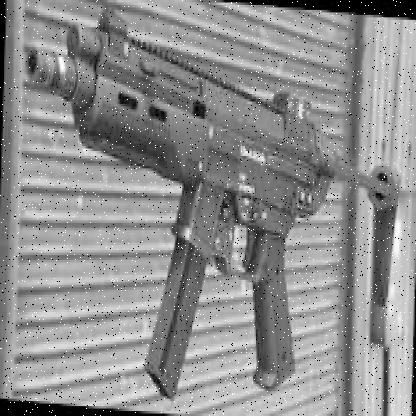rifle: (16, 0, 396, 398)
